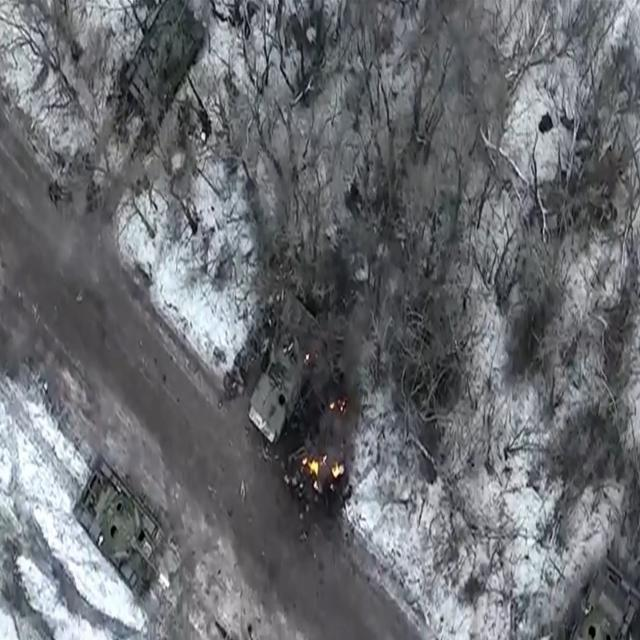destroyed: (247, 292, 325, 444)
tank: (72, 457, 163, 597), (122, 0, 206, 134), (566, 556, 640, 640)
